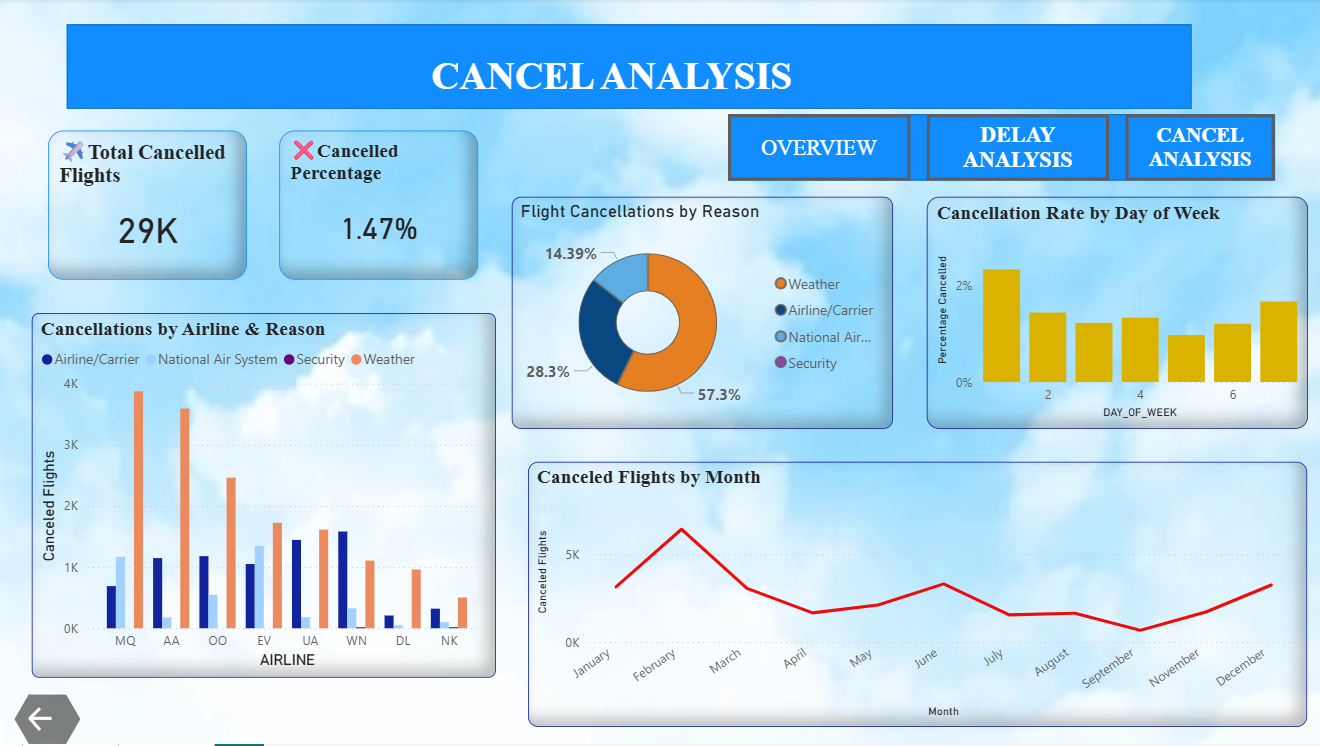

The page's visual inventory and layout, read from the dashboard file:
{"tool":"powerbi","page":{"name":"Page 3","canvas":[1280,720],"ordinal":2},"visuals":[{"type":"shape","box":[65.9,24.9,1085.7,81.9],"z":0},{"type":"textbox","box":[48,48,1088,112],"z":1000},{"type":"clusteredColumnChart","title":"Cancellations by Airline & Reason","fields":{"Category":["flights.AIRLINE"],"Y":["Measure_table.Canceled Flights"],"Series":["cancellation_codes.CANCELLATION_DESCRIPTION"]},"box":[32,304,448,352],"z":2000},{"type":"donutChart","title":"Flight Cancellations by Reason","fields":{"Y":["Sum(flights.CANCELLED)"],"Category":["cancellation_codes.CANCELLATION_DESCRIPTION"]},"box":[496,192,368,224],"z":3000},{"type":"lineChart","fields":{"Category":["Dim_Date.Date.Variation.Date Hierarchy.Quarter","Dim_Date.Date.Variation.Date Hierarchy.Month","Dim_Date.Date.Variation.Date Hierarchy.Day"],"Y":["flights.Canceled Flights"]},"box":[512,448,752,256],"z":4000},{"type":"card","title":"✈️Total Cancelled Flights","fields":{"Values":["Measure_table.Canceled Flights"]},"box":[48,128,192,144],"z":5000},{"type":"card","title":"❌Cancelled Percentage","fields":{"Values":["Measure_table.Percentage Cancelled"]},"box":[272,128,192,144],"z":6000},{"type":"clusteredColumnChart","title":"Cancellation Rate by Day of Week","fields":{"Category":["flights.DAY_OF_WEEK"],"Y":["Measure_table.Percentage Cancelled"]},"box":[896,192,368,224],"z":7000},{"type":"actionButton","box":[16,672,64,48],"z":8000},{"type":"shape","box":[704,112,528,64],"z":10500},{"type":"group","id":"g1","title":"Group 1","box":[704,112,528,64],"z":11000},{"type":"actionButton","box":[896,112,176,64],"z":14000,"group":"g1"},{"type":"actionButton","title":"OVERVIEW","box":[704,112,176,64],"z":15000,"group":"g1"},{"type":"actionButton","box":[1088,112,144,64],"z":16000,"group":"g1"}]}

Visuals, with their boxes in screenshot pixels (x1, y1, x2, y2), scaled from the page's 1280x720 canvas onto the 1320x746 screenshot:
shape: region(68, 26, 1188, 111)
textbox: region(50, 50, 1172, 166)
"Cancellations by Airline & Reason" clusteredColumnChart: region(33, 315, 495, 680)
"Flight Cancellations by Reason" donutChart: region(512, 199, 891, 431)
lineChart - Dim_Date.Date.Variation.Date Hierarchy.Quarter x Dim_Date.Date.Variation.Date Hierarchy.Month: region(528, 464, 1304, 729)
"✈️Total Cancelled Flights" card: region(50, 133, 248, 282)
"❌Cancelled Percentage" card: region(280, 133, 478, 282)
"Cancellation Rate by Day of Week" clusteredColumnChart: region(924, 199, 1304, 431)
actionButton: region(16, 696, 82, 745)
shape: region(726, 116, 1270, 182)
"Group 1" group: region(726, 116, 1270, 182)
actionButton: region(924, 116, 1106, 182)
"OVERVIEW" actionButton: region(726, 116, 908, 182)
actionButton: region(1122, 116, 1270, 182)
